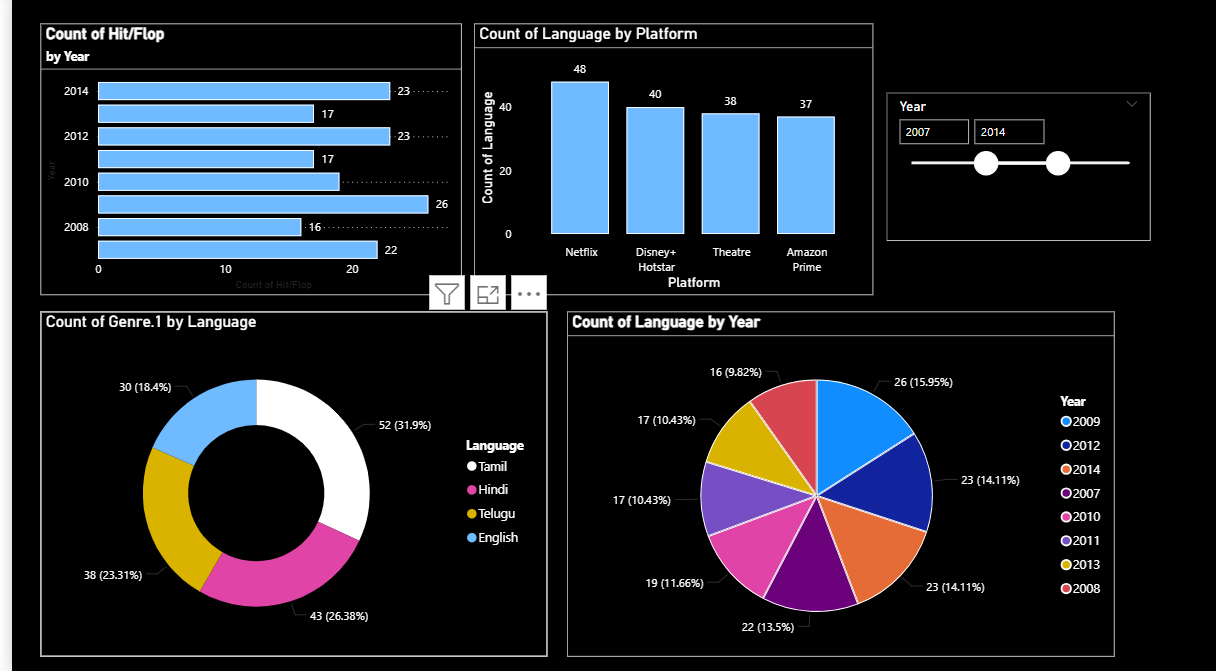

This screenshot's page, from the dashboard's own definition file:
{"tool":"powerbi","page":{"name":"Page 3","canvas":[1280,720],"ordinal":2},"visuals":[{"type":"barChart","fields":{"Category":["Movies Data INR Final.Year","Movies Data INR Final.Name"],"Y":["CountNonNull(Movies Data INR Final.Hit/Flop)"]},"box":[30.2,30.2,447,287.9],"z":0},{"type":"columnChart","fields":{"Category":["Movies Data INR Final.Platform"],"Y":["CountNonNull(Movies Data INR Final.Language)"]},"box":[489.9,30.2,423.1,287.9],"z":1000},{"type":"donutChart","fields":{"Y":["CountNonNull(Movies Data INR Final.Genre.1)"],"Category":["Movies Data INR Final.Language"]},"box":[30.2,335.6,537.6,365.8],"z":2000},{"type":"pieChart","fields":{"Category":["Movies Data INR Final.Year"],"Y":["CountNonNull(Movies Data INR Final.Language)"]},"box":[588.5,335.6,580.6,365.8],"z":4000},{"type":"slicer","fields":{"Values":["Movies Data INR Final.Year"]},"box":[927.3,103.4,279.9,157.5],"z":5000}]}

Visuals, with their boxes in screenshot pixels (x1, y1, x2, y2), scaled from the page's 1280x720 canvas onto the 1216x671 screenshot:
barChart - Movies Data INR Final.Year x Movies Data INR Final.Name: Rect(29, 28, 453, 296)
columnChart - Movies Data INR Final.Platform x CountNonNull(Movies Data INR Final.Language): Rect(465, 28, 867, 296)
donutChart - CountNonNull(Movies Data INR Final.Genre.1) x Movies Data INR Final.Language: Rect(29, 313, 539, 654)
pieChart - Movies Data INR Final.Year x CountNonNull(Movies Data INR Final.Language): Rect(559, 313, 1111, 654)
slicer - Movies Data INR Final.Year: Rect(881, 96, 1147, 243)
